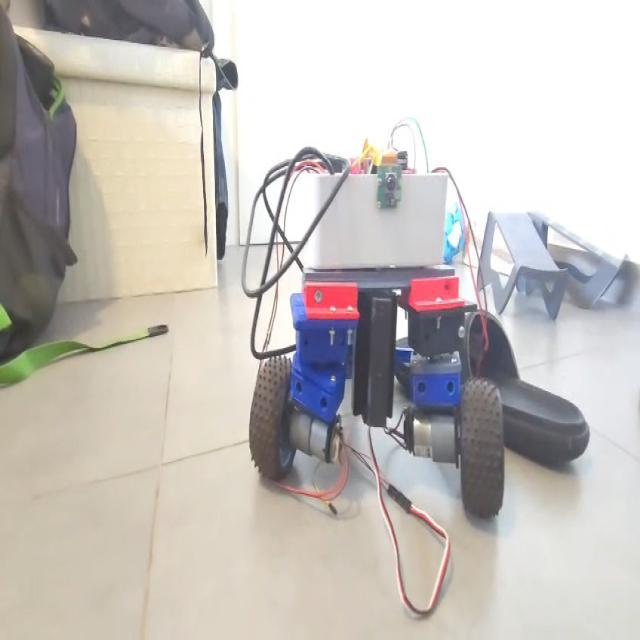Robot: (247, 115, 508, 518)
